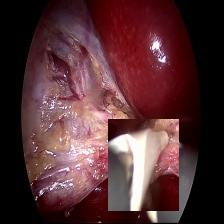Hook: (108, 119, 179, 211)
